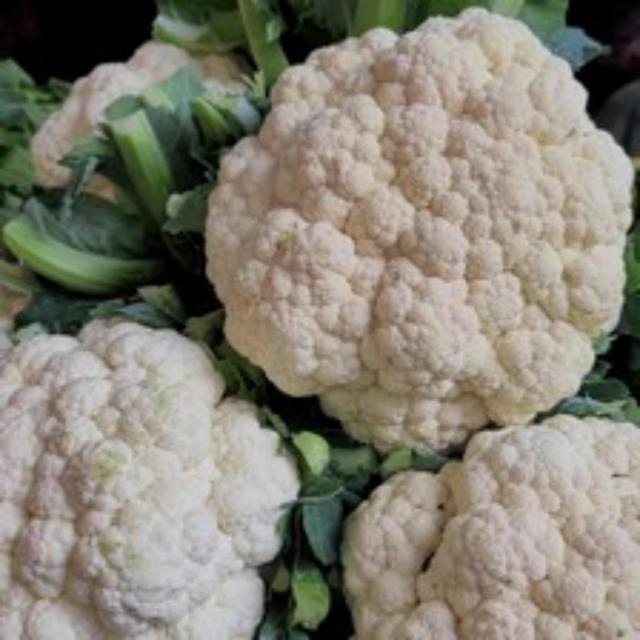cauliflower: (178, 3, 635, 471)
